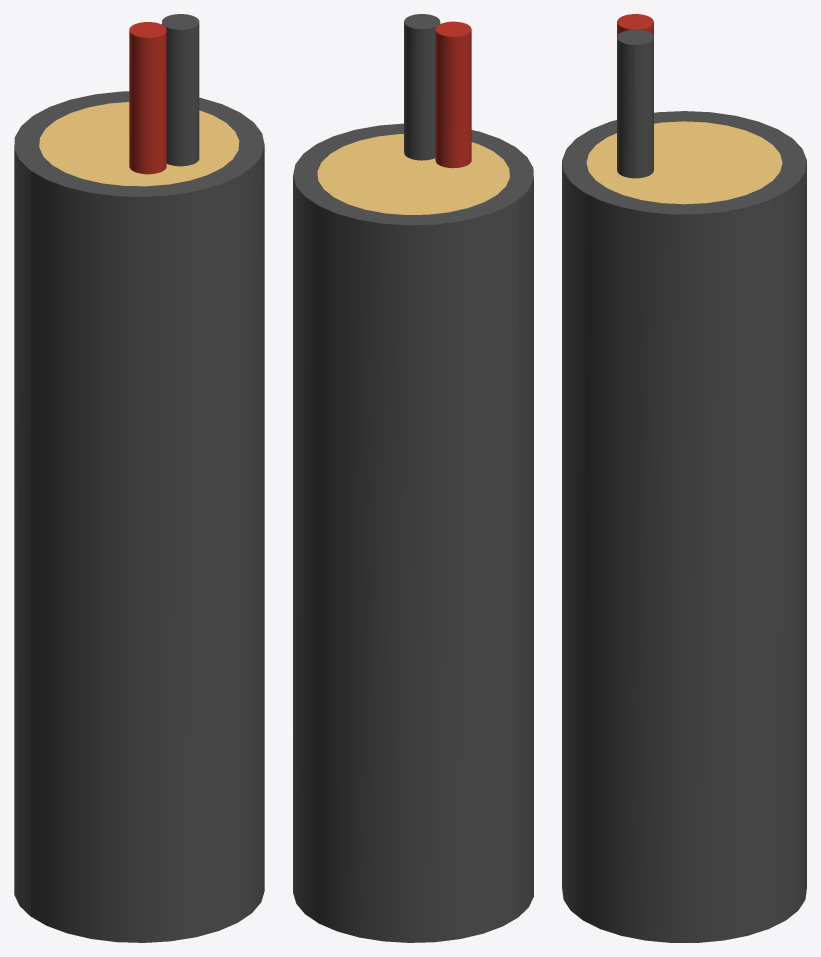
The model's file is ada-1054.glb.
The picture shows the model from 3 angles, left to right: view 1: azimuth 30°, elevation 25°; view 2: azimuth 150°, elevation 25°; view 3: azimuth 270°, elevation 25°; orthographic projection. The views are drawn at different scales.
Visible parts, largest first — view 1: 0.08333333333333333_0.08333333333333333_0.08333333333333333_, 0.9166666666666666_0.5833333333333334_0.16666666666666666_0, 0.5833333333333334_0_0_0; view 2: 0.08333333333333333_0.08333333333333333_0.08333333333333333_, 0.9166666666666666_0.5833333333333334_0.16666666666666666_0, 0.5833333333333334_0_0_0; view 3: 0.08333333333333333_0.08333333333333333_0.08333333333333333_, 0.9166666666666666_0.5833333333333334_0.16666666666666666_0, 0.5833333333333334_0_0_0.
Part boxes in pixels (x1,y1,x2,y2): 0.08333333333333333_0.08333333333333333_0.08333333333333333_: (14,14,264,942); 0.9166666666666666_0.5833333333333334_0.16666666666666666_0: (39,102,239,186); 0.5833333333333334_0_0_0: (129,22,166,174); 0.08333333333333333_0.08333333333333333_0.08333333333333333_: (293,14,533,942); 0.9166666666666666_0.5833333333333334_0.16666666666666666_0: (317,134,509,214); 0.5833333333333334_0_0_0: (435,21,471,168); 0.08333333333333333_0.08333333333333333_0.08333333333333333_: (562,29,806,942); 0.9166666666666666_0.5833333333333334_0.16666666666666666_0: (586,121,782,204); 0.5833333333333334_0_0_0: (617,14,653,36).
Size of the model in its own units: 0.9971 by 3.88 by 0.9986.
